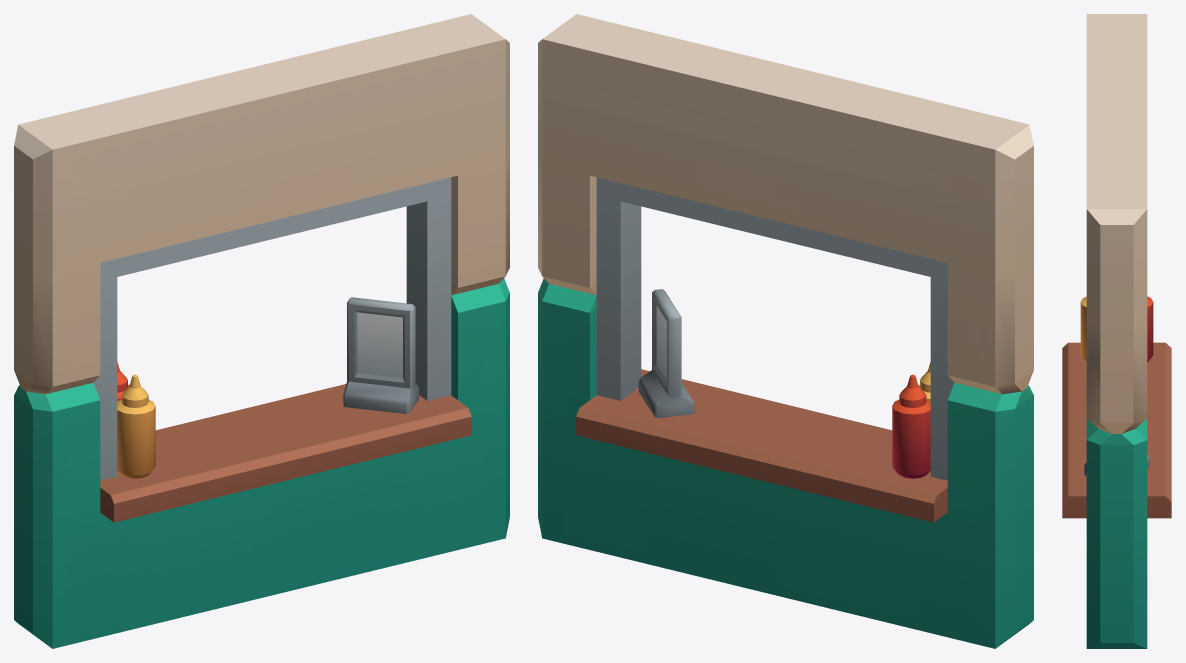
The model's file is kaykit-restaurant-bits-wall-orderwindow-decorated.glb.
3 views of the same model, side by side, from view 1: azimuth 30°, elevation 25°; view 2: azimuth 150°, elevation 25°; view 3: azimuth 270°, elevation 25° (orthographic). The views are drawn at different scales.
Visible parts, largest first — view 1: wall_orderwindow_decorated; view 2: wall_orderwindow_decorated; view 3: wall_orderwindow_decorated.
Part boxes in pixels (<box>): wall_orderwindow_decorated: <box>14,14,509,648</box>; wall_orderwindow_decorated: <box>538,14,1033,648</box>; wall_orderwindow_decorated: <box>1062,14,1171,648</box>.
Bounding box in the file's own units: 4 × 4 × 0.8999.
1 material, 1 textured.
